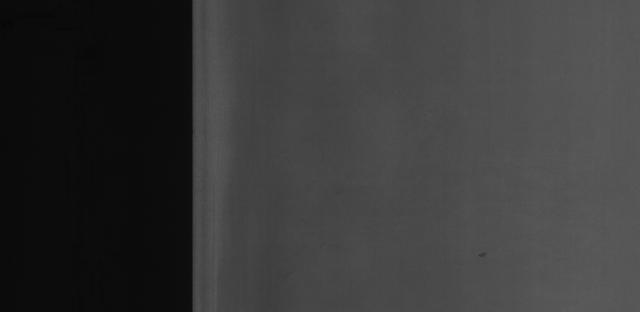inclusion: (467, 245, 497, 267)
